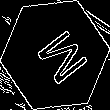M_SW: (24, 22, 86, 88)
